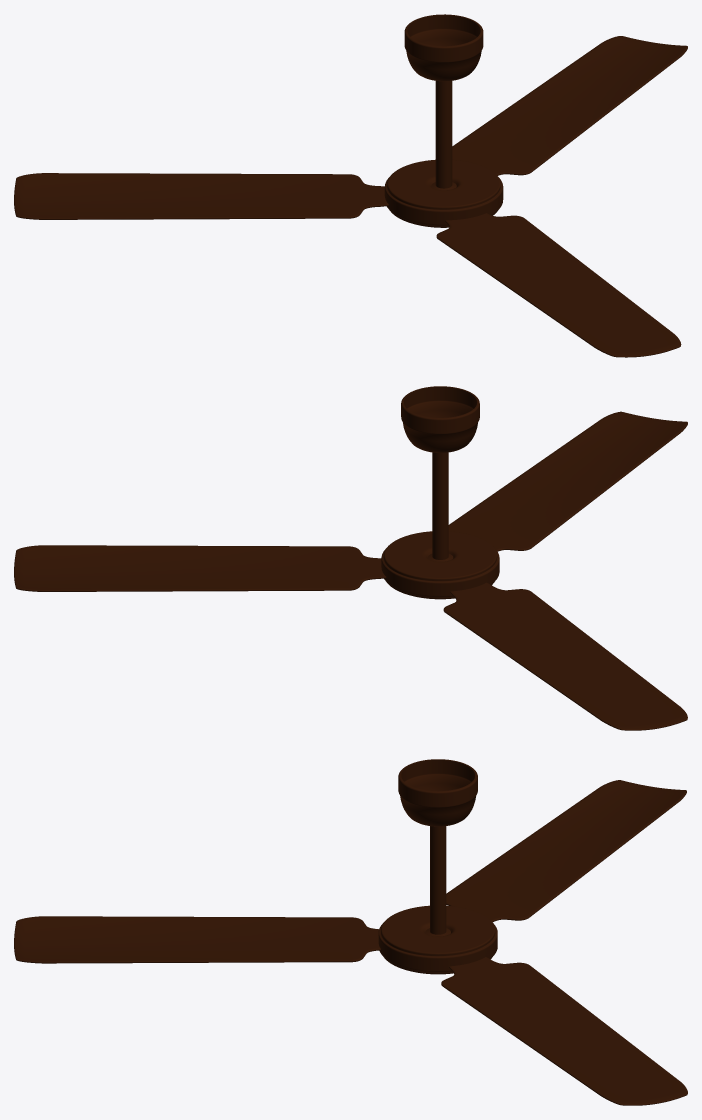
File: Quat1.FBX
3 views of the same model, one above another, from view 1: azimuth 30°, elevation 25°; view 2: azimuth 150°, elevation 25°; view 3: azimuth 270°, elevation 25° (orthographic).
Visible parts, largest first — view 1: wing1, wing2, wing, base; view 2: wing, wing1, wing2, base; view 3: wing2, wing, wing1, base.
Boxes of the visible parts, x1=… form: wing1: x1=14, y1=173, x2=388, y2=219; wing2: x1=436, y1=213, x2=681, y2=357; wing: x1=452, y1=36, x2=687, y2=175; base: x1=384, y1=14, x2=503, y2=227; wing: x1=14, y1=545, x2=386, y2=591; wing1: x1=443, y1=582, x2=687, y2=730; wing2: x1=448, y1=411, x2=687, y2=551; base: x1=381, y1=386, x2=499, y2=599; wing2: x1=14, y1=916, x2=380, y2=963; wing: x1=441, y1=957, x2=687, y2=1105; wing1: x1=446, y1=780, x2=686, y2=922; base: x1=378, y1=759, x2=497, y2=974.
Bounding box in the file's own units: 86.77 × 21.81 × 74.81.
